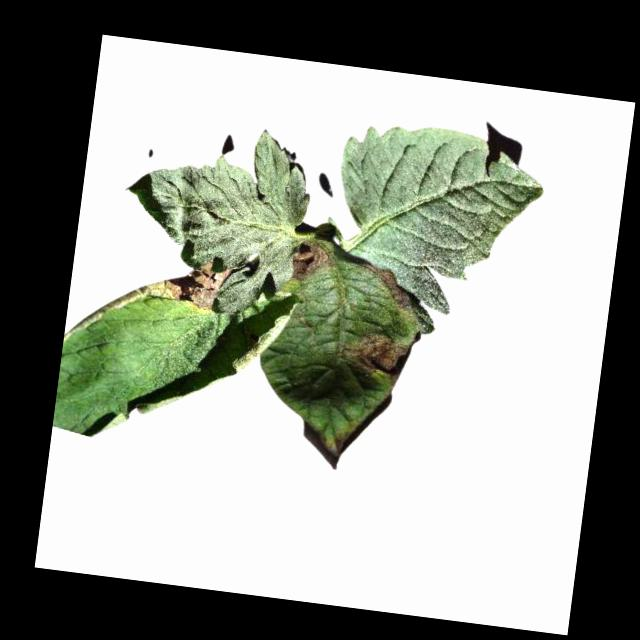Late_blight: (141, 249, 235, 315), (340, 329, 415, 383), (362, 265, 412, 310), (291, 238, 334, 286), (316, 418, 360, 457)
healthy: (323, 115, 549, 327), (111, 113, 317, 322)
